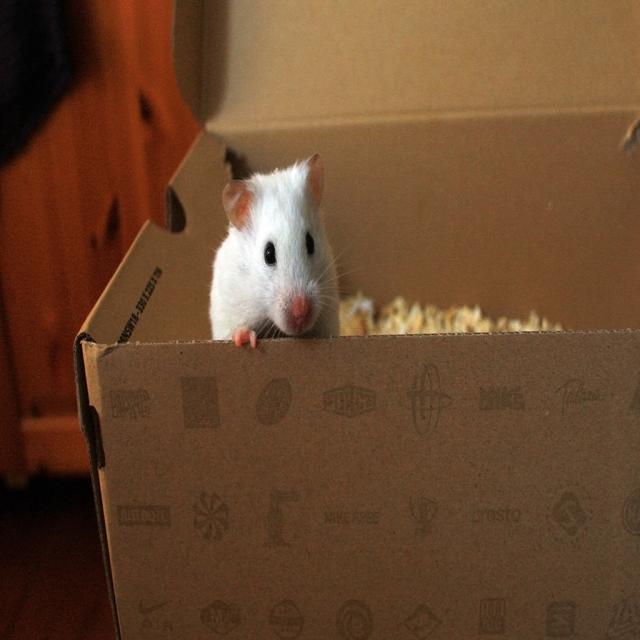rat: (209, 149, 341, 351)
